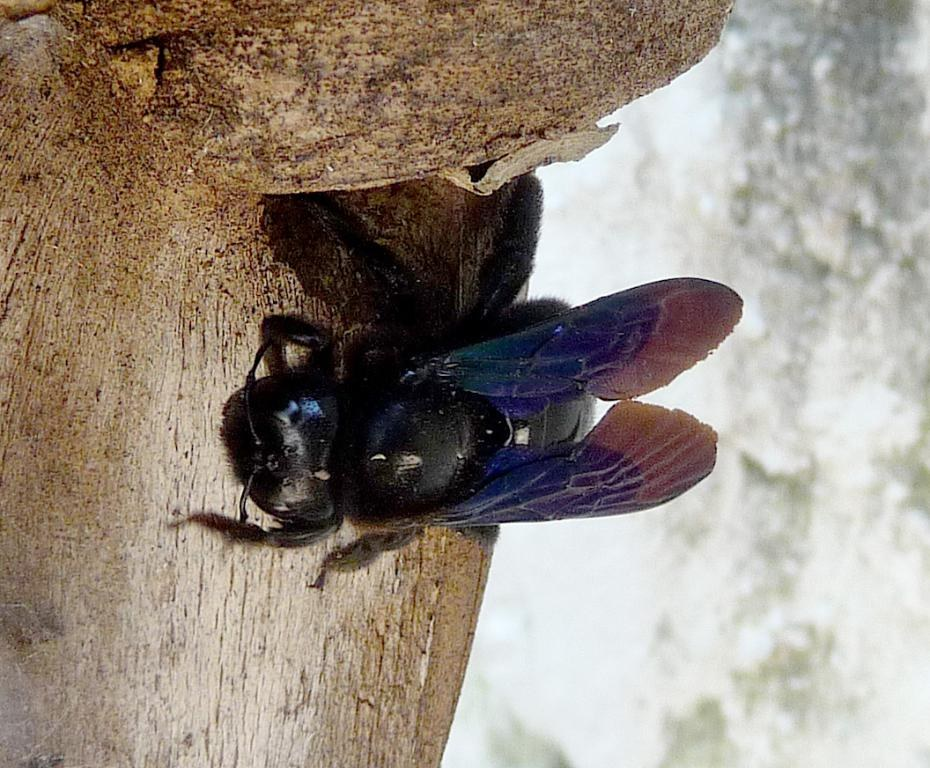bee: (158, 193, 772, 570)
